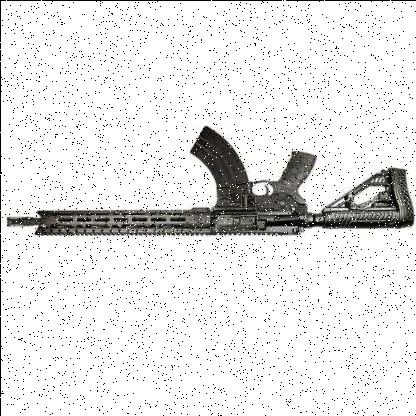rifle: (7, 105, 416, 264)
